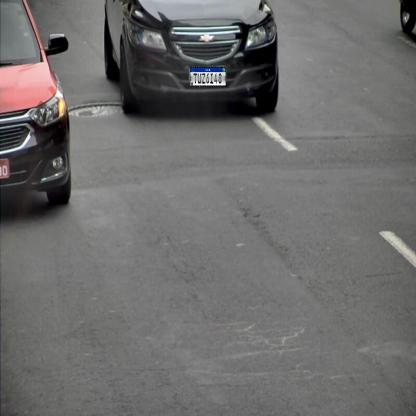PlacaM: (190, 66, 226, 86)
